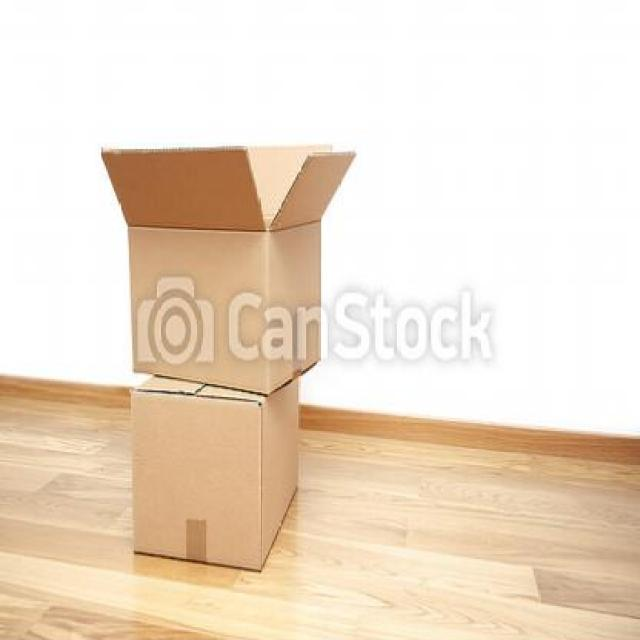box: (100, 126, 374, 387), (94, 386, 329, 586)
